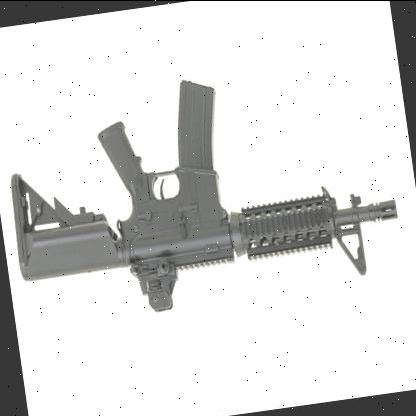rifle: (0, 44, 402, 323)
